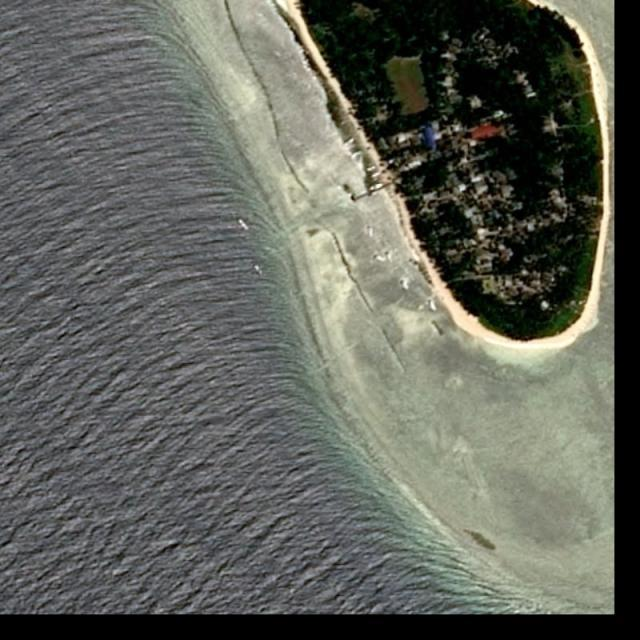ship: (238, 219, 250, 231), (254, 264, 261, 274)
